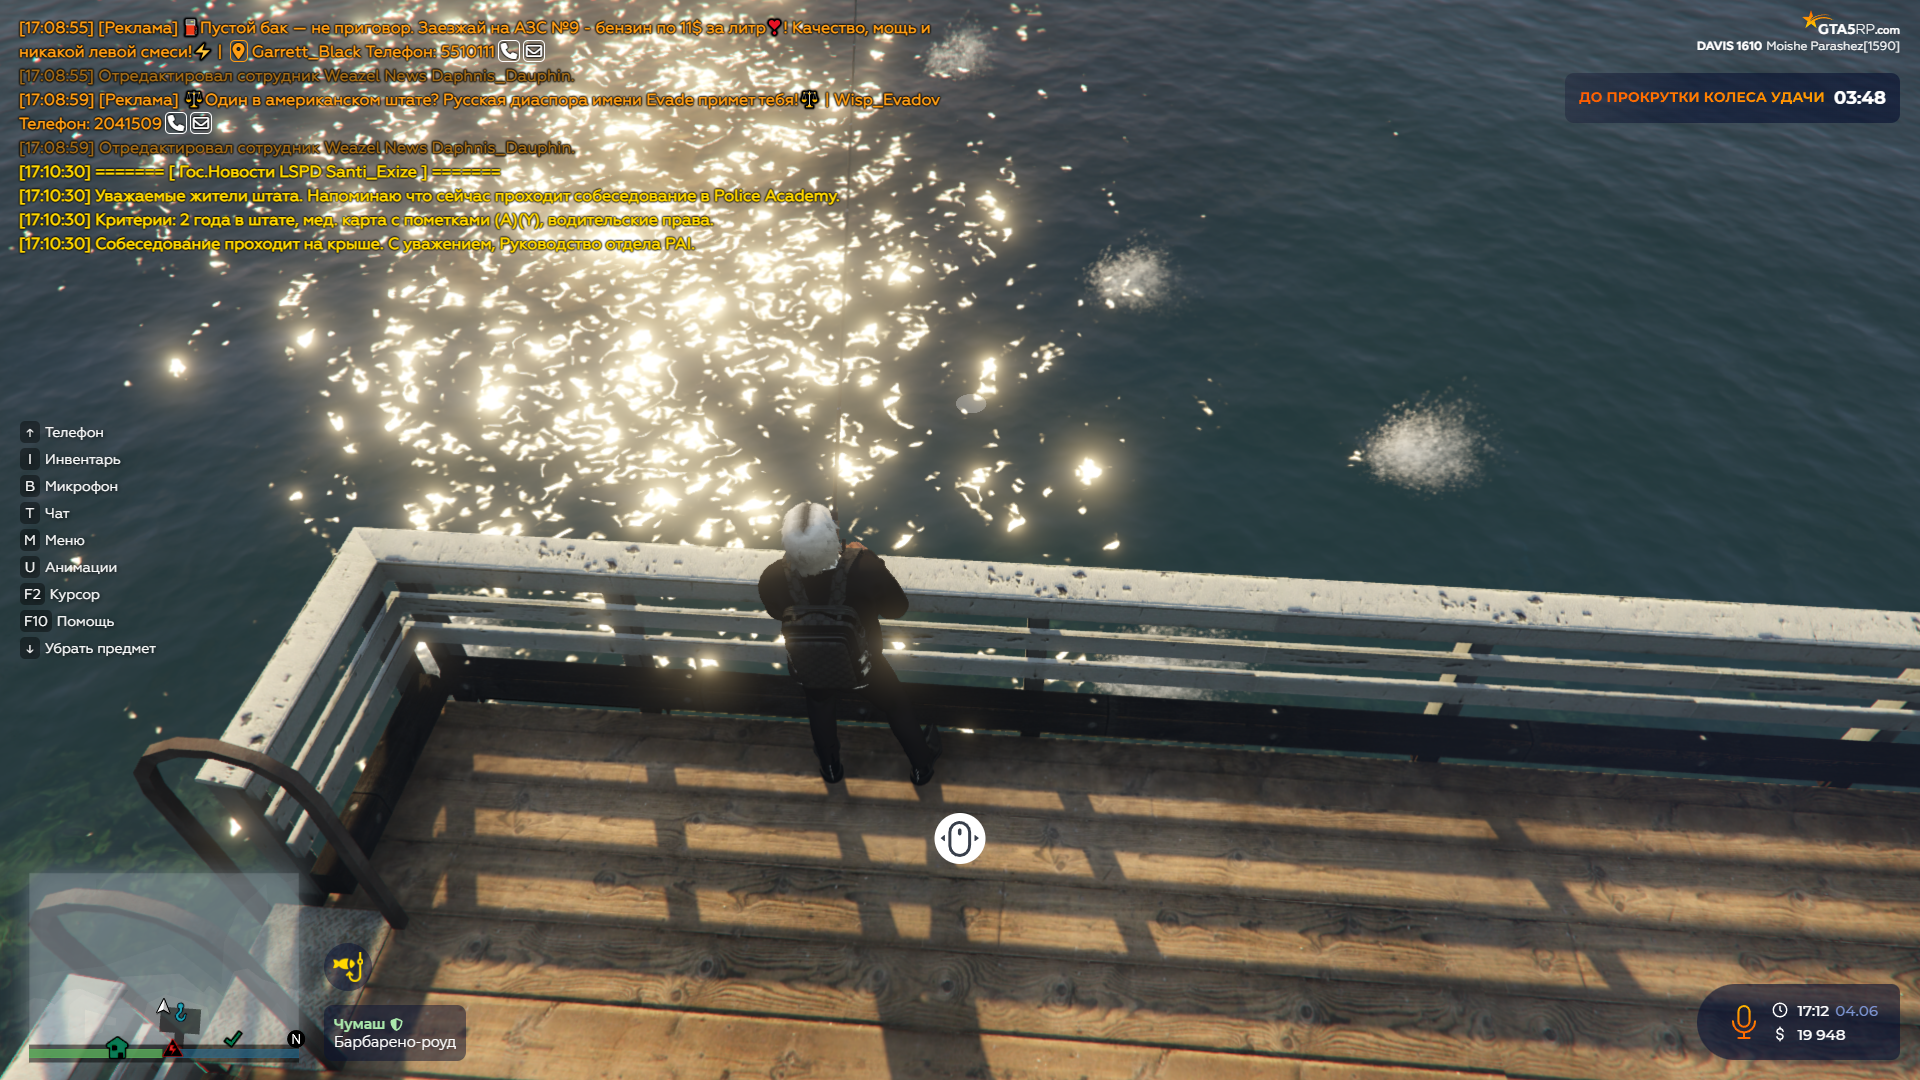circle: (957, 394, 986, 414)
